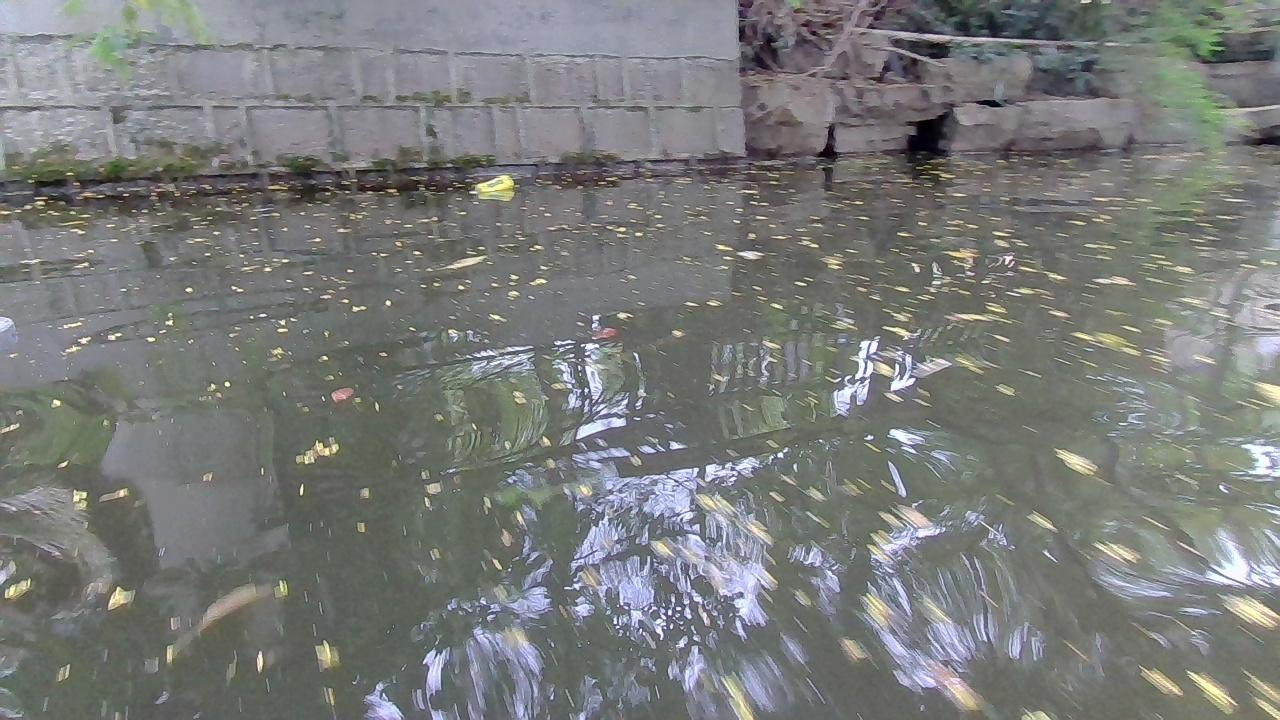bottle: (468, 172, 514, 195)
